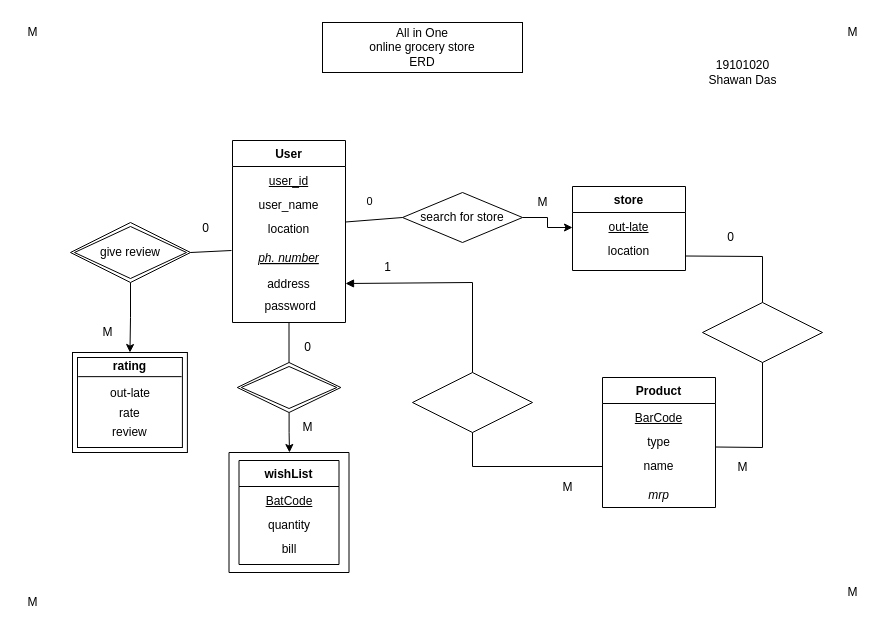
The diagram is 890 pixels wide and 634 high, and some of its shapes have lost their labels. Each missing label, with the centre of its shape:
"deliver" belongs at point (472, 402).
"select item" belongs at point (762, 332).
"wish list" belongs at point (288, 387).
